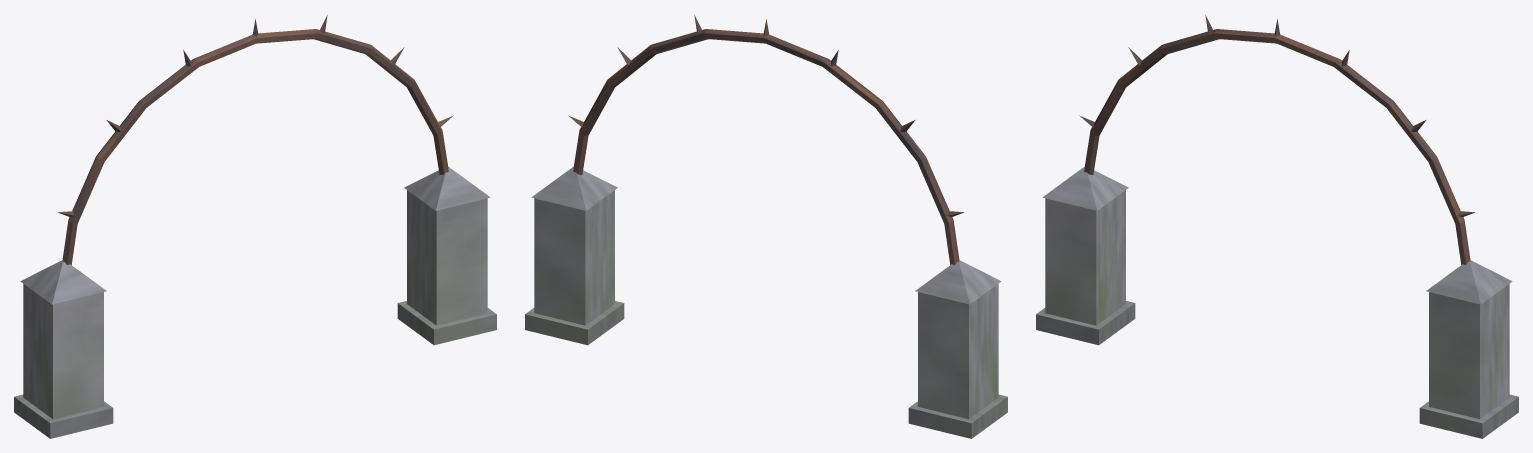
File: StartGate.fbx
3 renders of one model, left to right at view 1: azimuth 30°, elevation 25°; view 2: azimuth 150°, elevation 25°; view 3: azimuth 330°, elevation 25°, orthographic.
Parts seen in each view (by area): view 1: StartGate; view 2: StartGate; view 3: StartGate.
Boxes of the visible parts, bbox=[...] form: StartGate: bbox=[14, 15, 496, 438]; StartGate: bbox=[525, 15, 1007, 438]; StartGate: bbox=[1036, 15, 1518, 438].
Size of the model in its own units: 14.9 by 11.25 by 2.1.
1 material, 1 textured.
